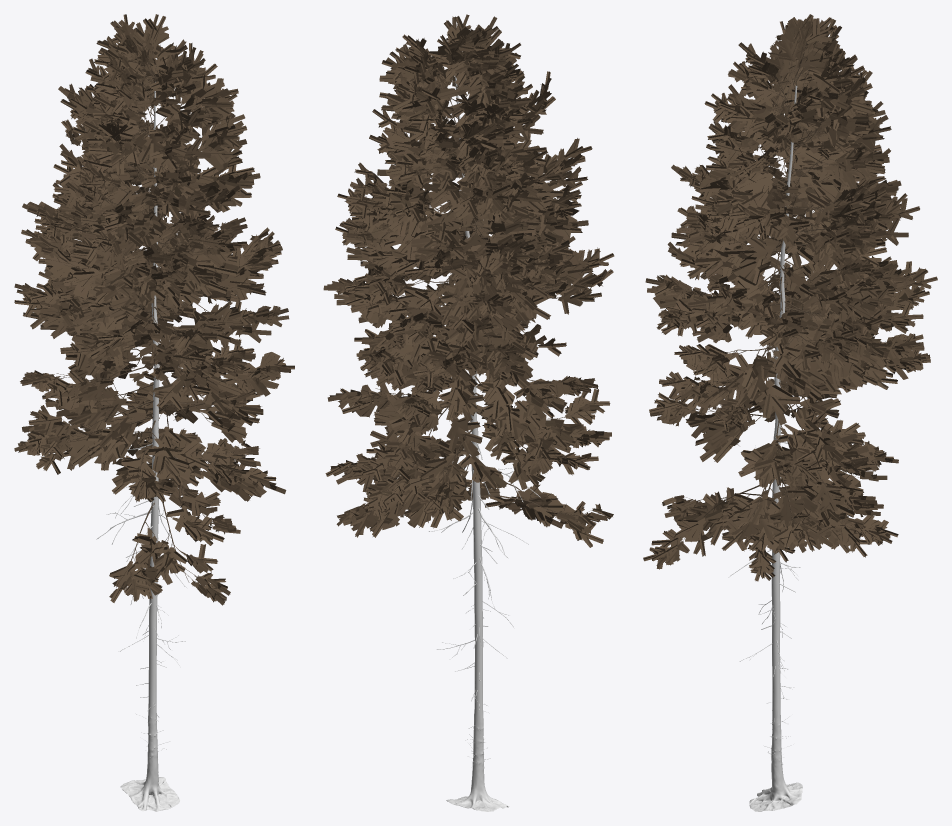
Rendered from fir_a.glb.
3 views of the same model, side by side, from view 1: azimuth 30°, elevation 25°; view 2: azimuth 150°, elevation 25°; view 3: azimuth 270°, elevation 25° (orthographic). The views are drawn at different scales.
Parts seen in each view (by area): view 1: fir_tree_01_a_LOD2; view 2: fir_tree_01_a_LOD2; view 3: fir_tree_01_a_LOD2.
Boxes of the visible parts, x1,y1,x2,y2 form: fir_tree_01_a_LOD2: (14,14,294,811); fir_tree_01_a_LOD2: (323,14,614,811); fir_tree_01_a_LOD2: (643,14,937,811).
Size of the model in its own units: 6.58 by 18.96 by 6.47.
